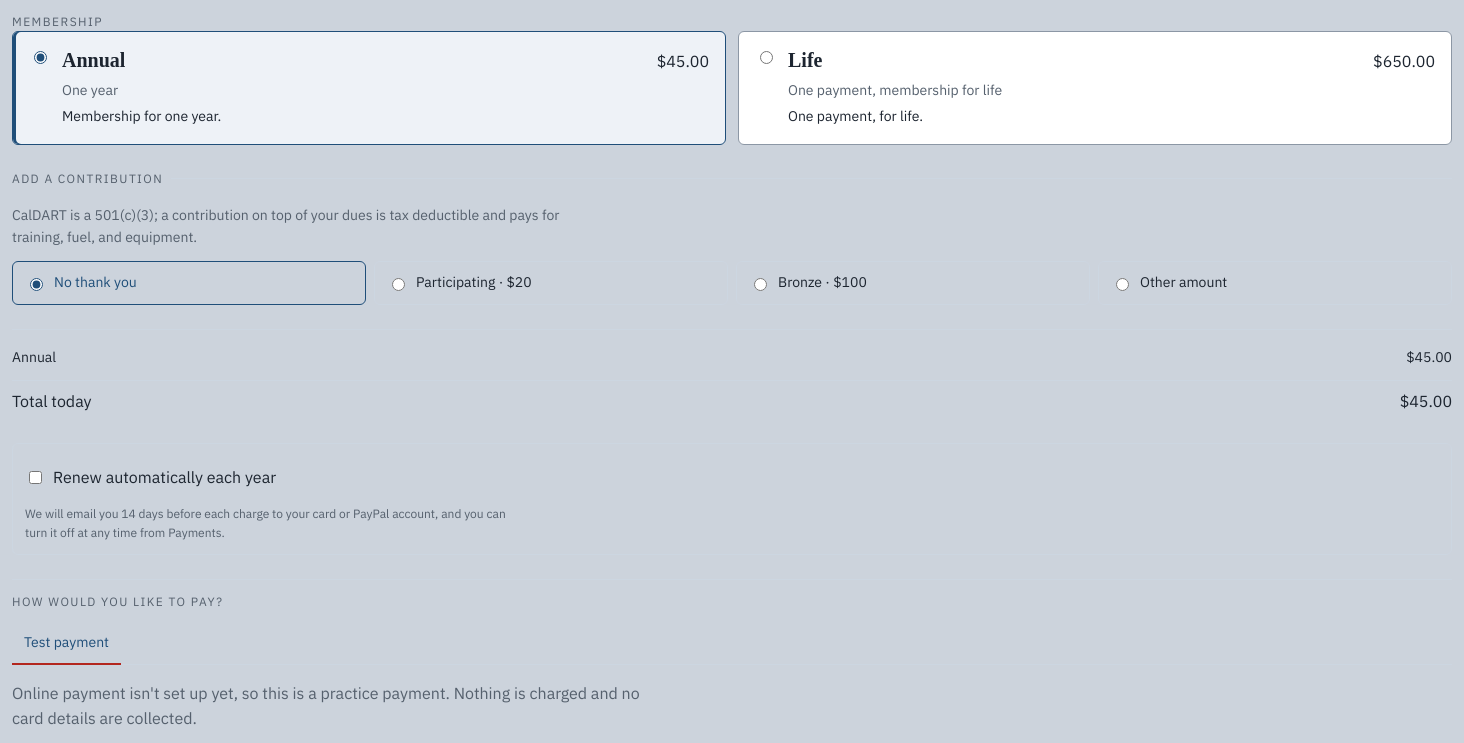
it: Checkout › accepts an "other amount" contribution
Click the radio button labelled "Other amount": (1122, 284) [1116,278,1129,290]
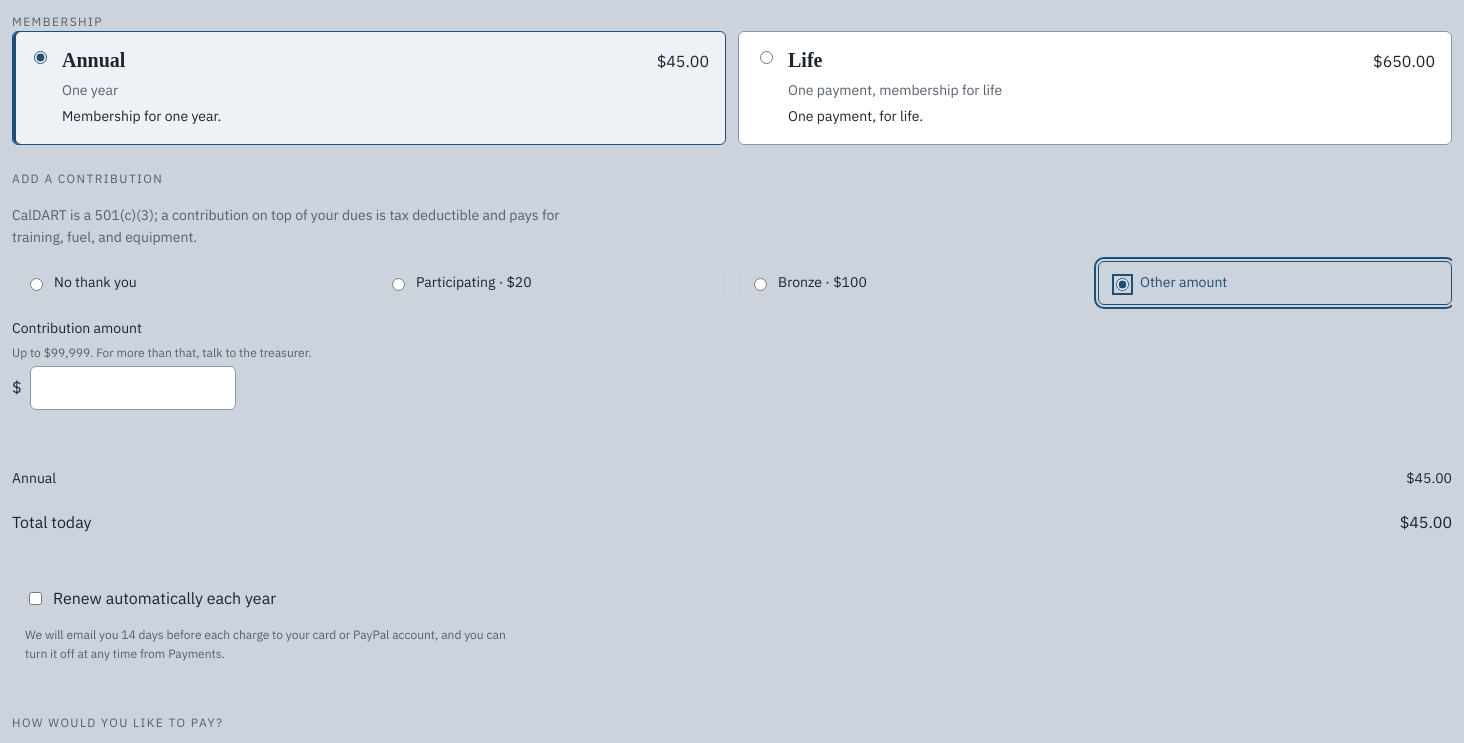
In the field labelled "Contribution amount": (133, 388) [30,366,236,410], type "7"
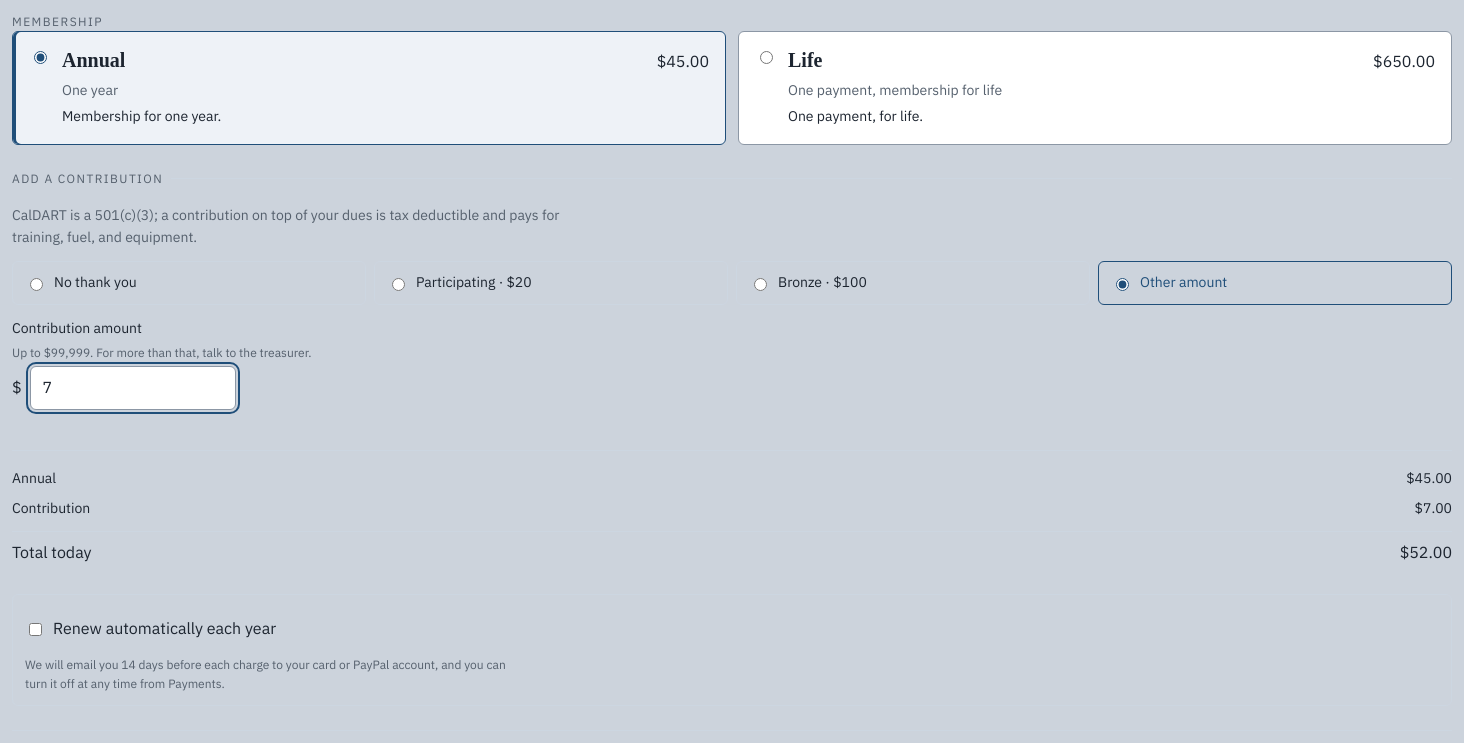
expect the text with test id "checkout-total" reads "$52.00": met, box [1400,542,1452,562]
